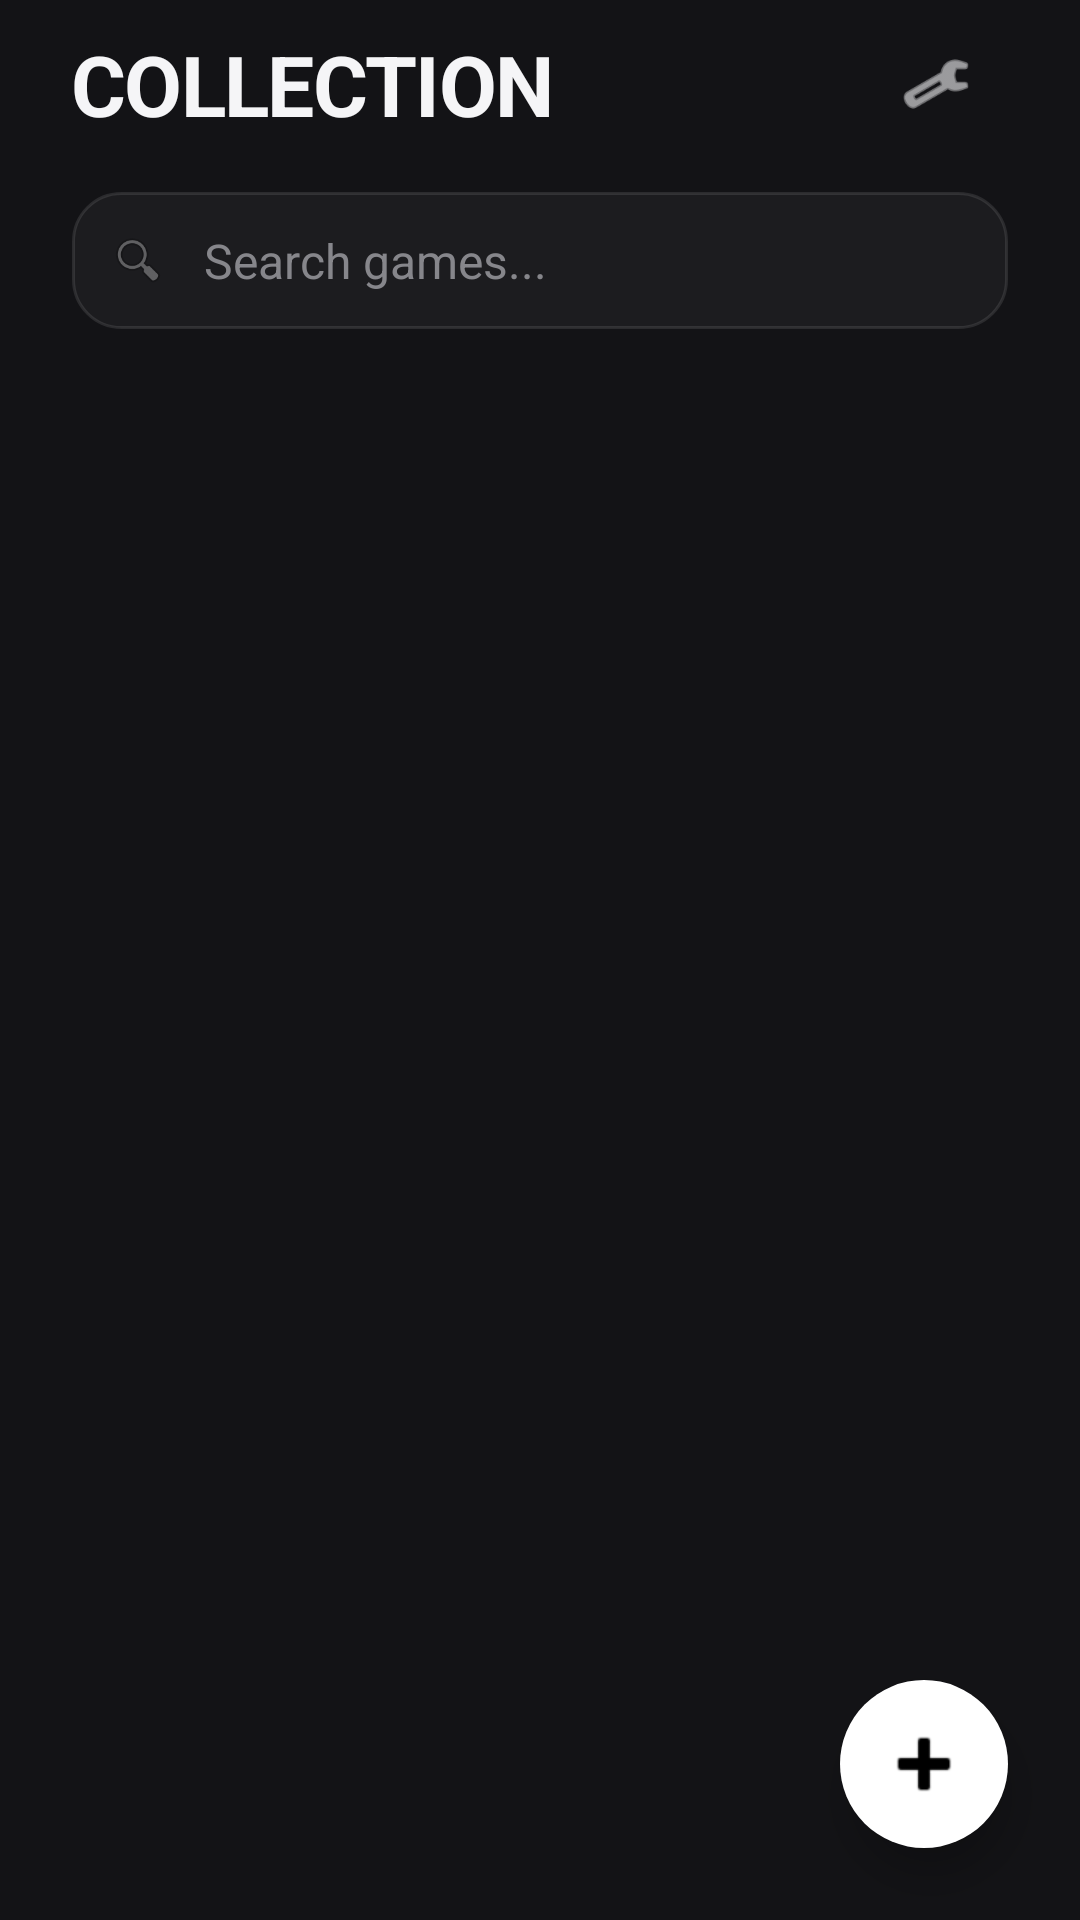

Where icons sit on this 1080×1920 app screen, as (x1, y1, x2, y2):
Add ROM: (840, 1680, 1008, 1848)
preferences: (903, 59, 968, 109)
